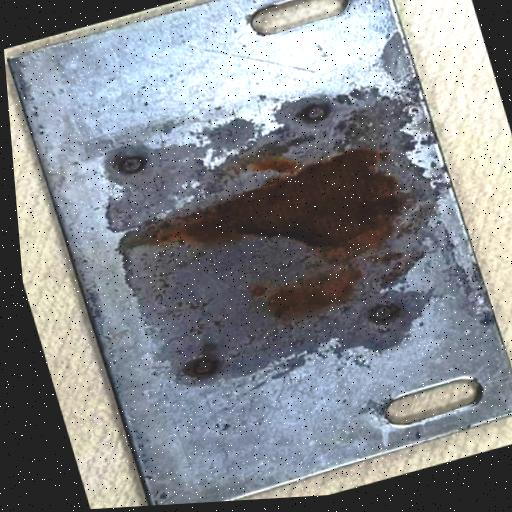corrosion: (159, 139, 420, 297), (250, 253, 380, 332)
